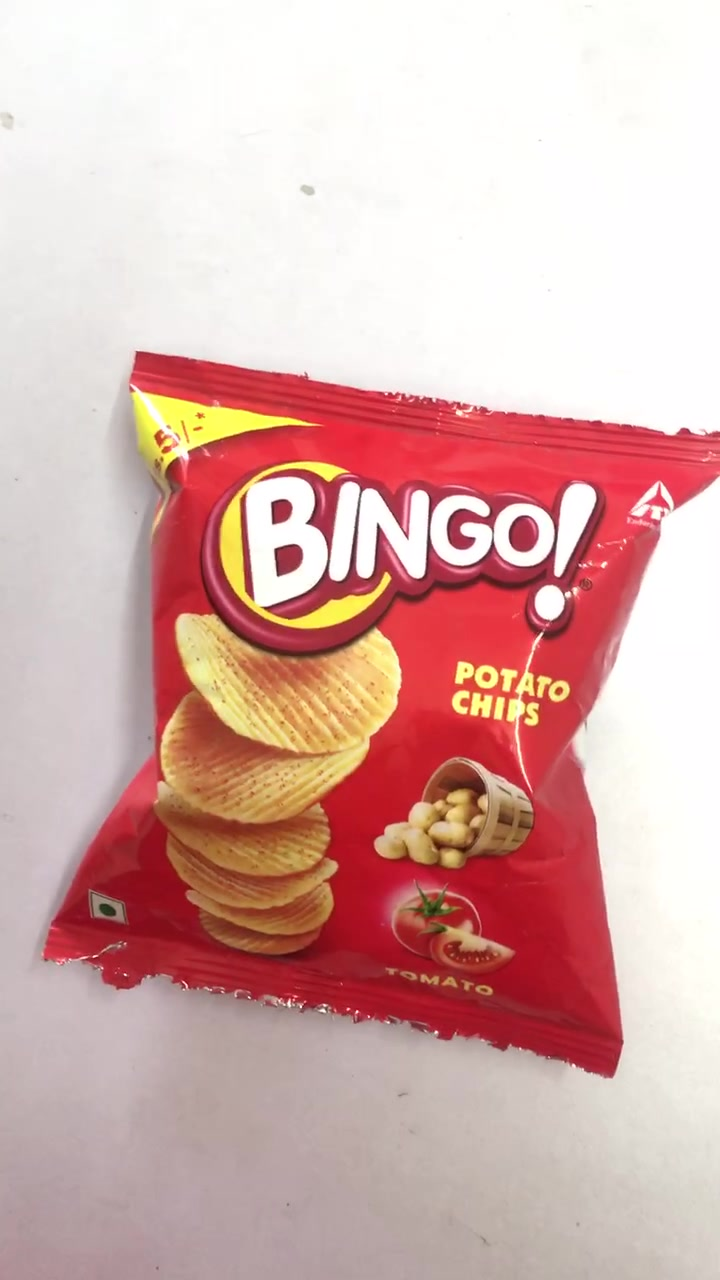Bingo: (45, 349, 720, 1074)
